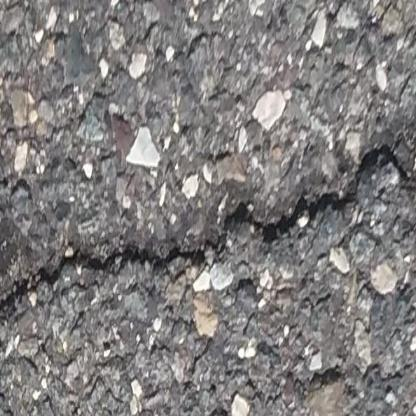Cracks: (0, 139, 416, 358)
